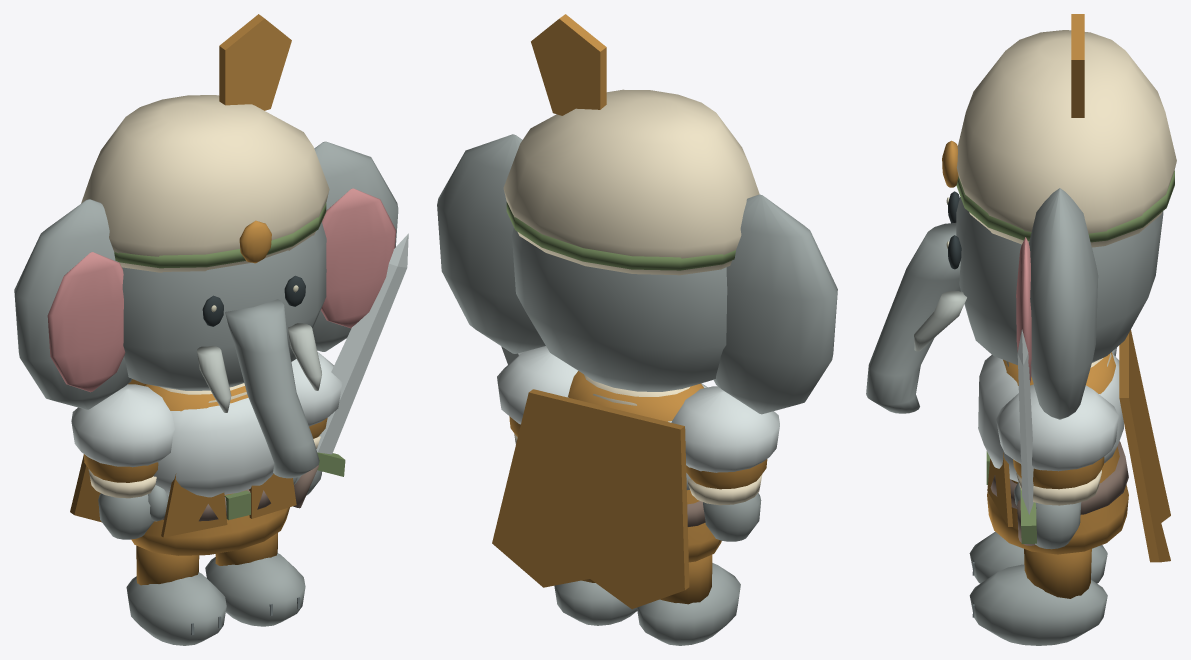
File: knight.glb
The picture shows the model from 3 angles, left to right: view 1: azimuth 30°, elevation 25°; view 2: azimuth 150°, elevation 25°; view 3: azimuth 270°, elevation 25°; orthographic projection. The views are drawn at different scales.
Parts seen in each view (by area): view 1: Layered cloth turban, Animal cheek head, Elephant broad ear, Curved elephant trunk, Elephant ear lining, Rounded breastplate, Elephant ear lining.001, Big shoulder armour, Soft animal paw, Soft animal paw.001, Turban fan, Short folded tunic (+17 smaller); view 2: Layered cloth turban, Short scalloped cape, Animal cheek head, Elephant broad ear, Elephant broad ear.001, Big shoulder armour, Turban fan, Soft animal paw, Short folded tunic, Big shoulder armour.001, Turban wrapping, Soft animal paw.001 (+5 smaller); view 3: Layered cloth turban, Animal cheek head, Elephant broad ear.001, Curved elephant trunk, Soft animal paw.001, Big shoulder armour.001, Short scalloped cape, Short folded tunic, Rounded breastplate, Stubby trouser.001, Soft animal paw, Turban wrapping (+11 smaller).
Part boxes in pixels (x1=…): Layered cloth turban: x1=81, y1=95, x2=329, y2=272; Animal cheek head: x1=122, y1=222, x2=326, y2=390; Elephant broad ear: x1=14, y1=199, x2=132, y2=409; Curved elephant trunk: x1=225, y1=299, x2=319, y2=478; Elephant ear lining: x1=47, y1=252, x2=125, y2=392; Rounded breastplate: x1=153, y1=398, x2=274, y2=497; Elephant ear lining.001: x1=321, y1=188, x2=396, y2=328; Big shoulder armour: x1=71, y1=384, x2=174, y2=467; Soft animal paw: x1=126, y1=572, x2=226, y2=645; Soft animal paw.001: x1=205, y1=553, x2=305, y2=626; Turban fan: x1=219, y1=14, x2=291, y2=110; Short folded tunic: x1=131, y1=384, x2=289, y2=555; Layered cloth turban: x1=503, y1=89, x2=759, y2=275; Short scalloped cape: x1=492, y1=389, x2=689, y2=609; Animal cheek head: x1=512, y1=228, x2=727, y2=391; Elephant broad ear: x1=713, y1=194, x2=837, y2=414; Elephant broad ear.001: x1=437, y1=134, x2=545, y2=353; Big shoulder armour: x1=671, y1=386, x2=779, y2=472; Turban fan: x1=531, y1=14, x2=606, y2=115; Soft animal paw: x1=637, y1=563, x2=740, y2=645; Short folded tunic: x1=568, y1=371, x2=721, y2=562; Big shoulder armour.001: x1=497, y1=346, x2=577, y2=424; Turban wrapping: x1=506, y1=202, x2=735, y2=270; Soft animal paw.001: x1=554, y1=580, x2=637, y2=625; Layered cloth turban: x1=956, y1=30, x2=1176, y2=247; Animal cheek head: x1=956, y1=197, x2=1163, y2=365; Elephant broad ear.001: x1=1029, y1=188, x2=1098, y2=419; Curved elephant trunk: x1=866, y1=222, x2=960, y2=413; Soft animal paw.001: x1=969, y1=564, x2=1107, y2=645; Big shoulder armour.001: x1=996, y1=384, x2=1118, y2=471; Short scalloped cape: x1=1119, y1=330, x2=1170, y2=562; Short folded tunic: x1=987, y1=352, x2=1128, y2=554; Rounded breastplate: x1=978, y1=354, x2=1123, y2=481; Stubby trouser.001: x1=1024, y1=549, x2=1091, y2=598; Soft animal paw: x1=969, y1=531, x2=1107, y2=583; Turban wrapping: x1=956, y1=170, x2=1174, y2=242.
Size of the model in its own units: 1.26 by 1.84 by 0.81.
